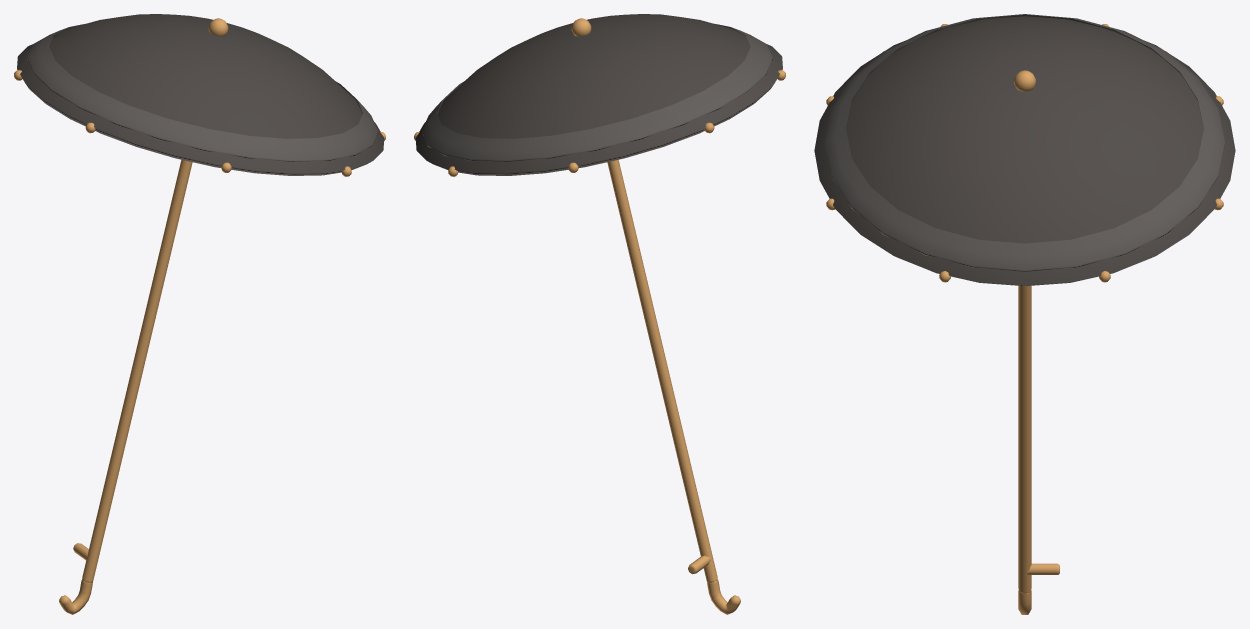
File: black_chic_umbrella.glb
The picture shows the model from 3 angles, left to right: view 1: azimuth 30°, elevation 25°; view 2: azimuth 150°, elevation 25°; view 3: azimuth 270°, elevation 25°; orthographic projection. The views are drawn at different scales.
Visible parts, largest first — view 1: black_chic_umbrella_ArmR; view 2: black_chic_umbrella_ArmR; view 3: black_chic_umbrella_ArmR.
Part boxes in pixels (box(x1,y1,x2,y2)): black_chic_umbrella_ArmR: box(14, 14, 385, 614); black_chic_umbrella_ArmR: box(414, 14, 785, 614); black_chic_umbrella_ArmR: box(814, 14, 1235, 614).
Size of the model in its own units: 0.8703 by 1.47 by 0.9.
